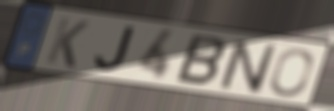4: (133, 27, 177, 85)
B: (172, 32, 228, 89)
J: (92, 25, 137, 74)
K: (43, 15, 92, 71)
N: (217, 37, 279, 97)
O: (268, 47, 315, 99)
